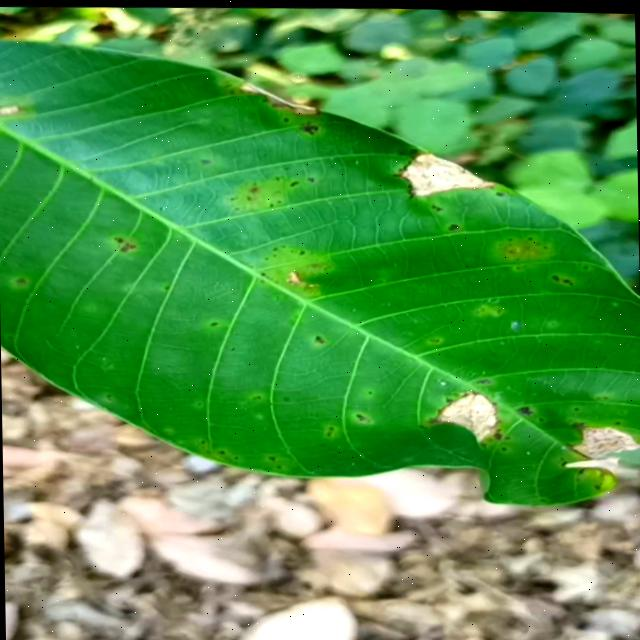Leaf-Blight: (400, 147, 498, 195), (561, 420, 640, 471), (436, 388, 502, 440), (237, 79, 321, 113)
